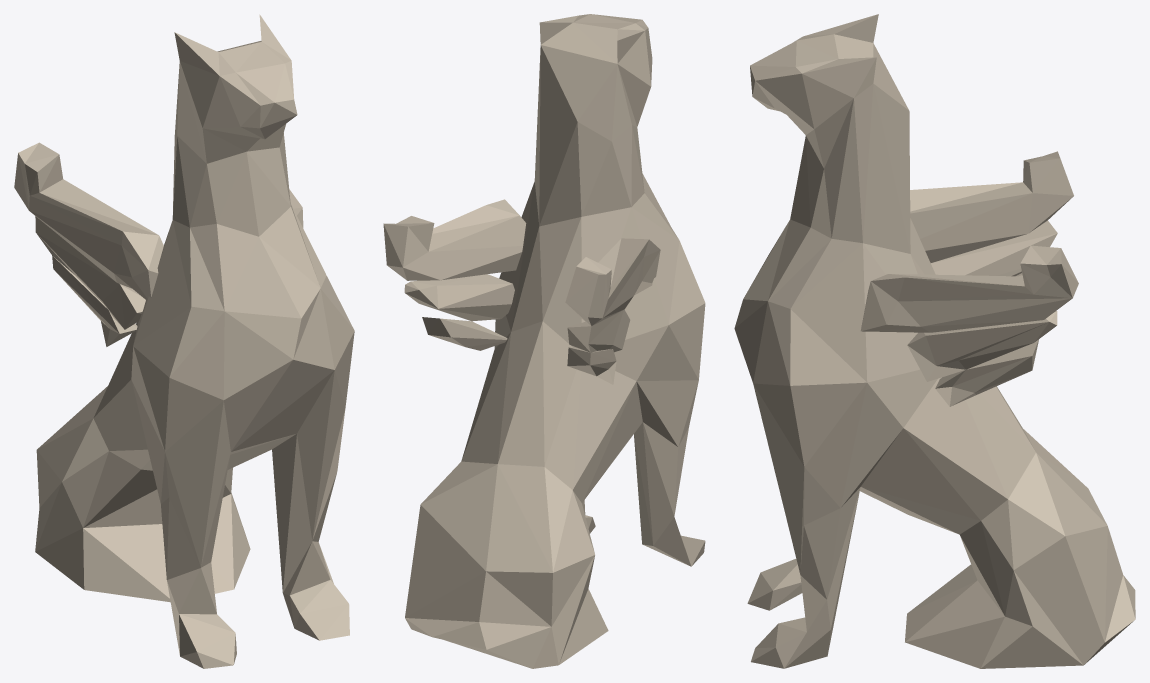
Rendered from RG-Dungeon_Statue-01.fbx.
3 renders of one model, left to right at view 1: azimuth 30°, elevation 25°; view 2: azimuth 150°, elevation 25°; view 3: azimuth 270°, elevation 25°, orthographic. The views are drawn at different scales.
Parts seen in each view (by area): view 1: RG-Dungeon_Statue-01; view 2: RG-Dungeon_Statue-01; view 3: RG-Dungeon_Statue-01.
Boxes of the visible parts, bbox=[...] form: RG-Dungeon_Statue-01: bbox=[14, 14, 354, 668]; RG-Dungeon_Statue-01: bbox=[383, 14, 705, 668]; RG-Dungeon_Statue-01: bbox=[734, 14, 1135, 668].
Bounding box in the file's own units: 5.43 × 13.25 × 8.13.
